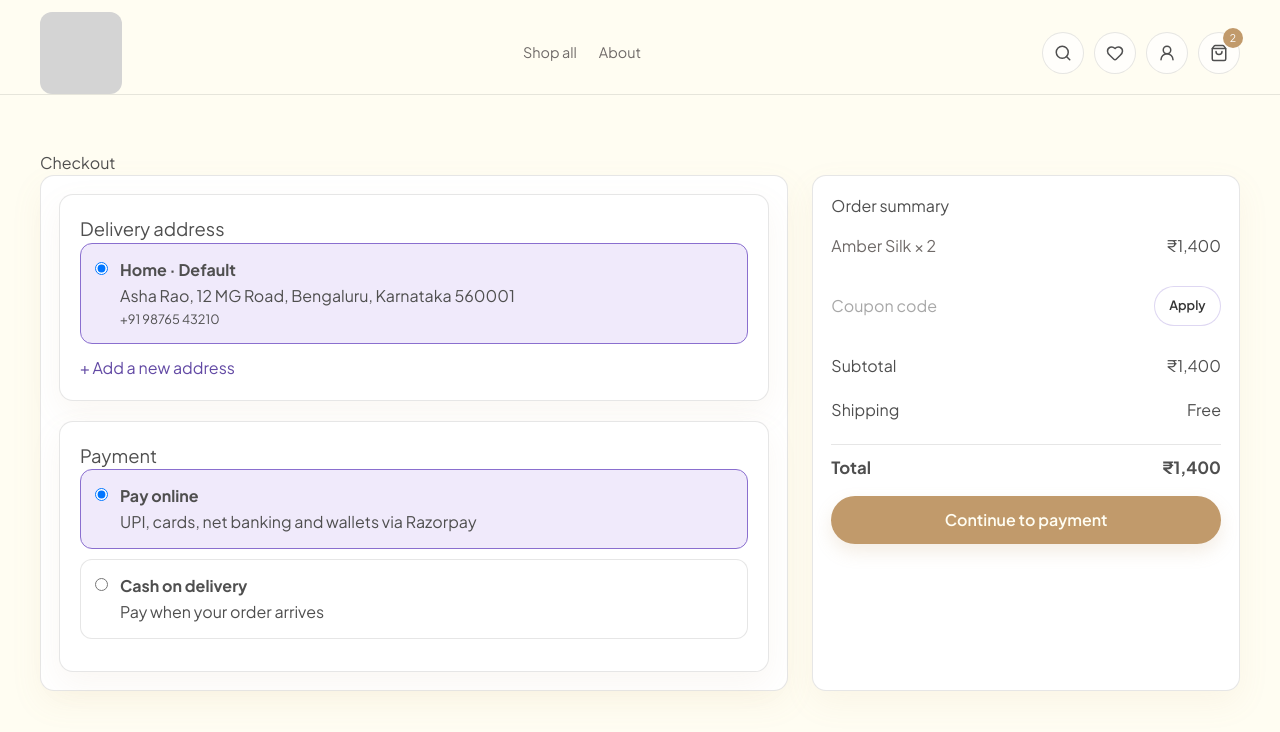
Test: checkout › applies a coupon through the server quote and shows coupon errors
Type "old" into the field labelled "Coupon code". click: (989, 306)
box: [831,286,1146,326]
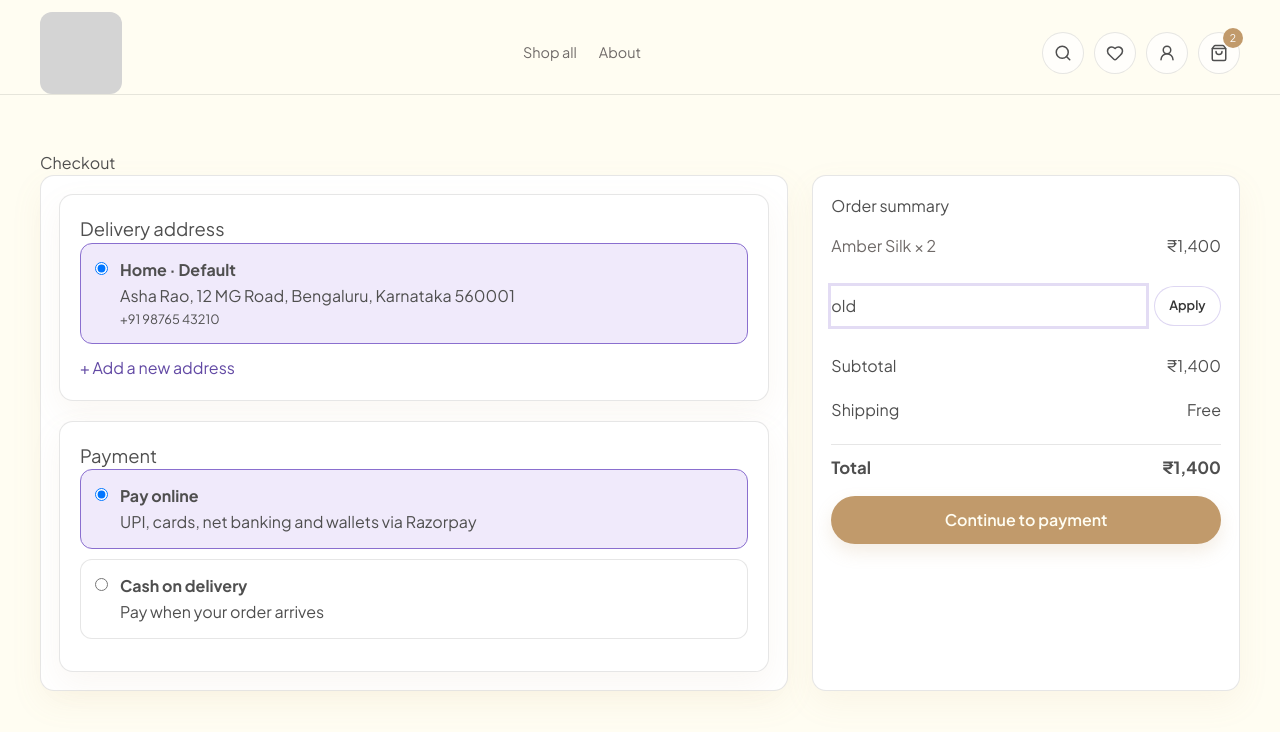
Click the button "Apply". click: (1187, 306)
box: [1154,286,1221,326]
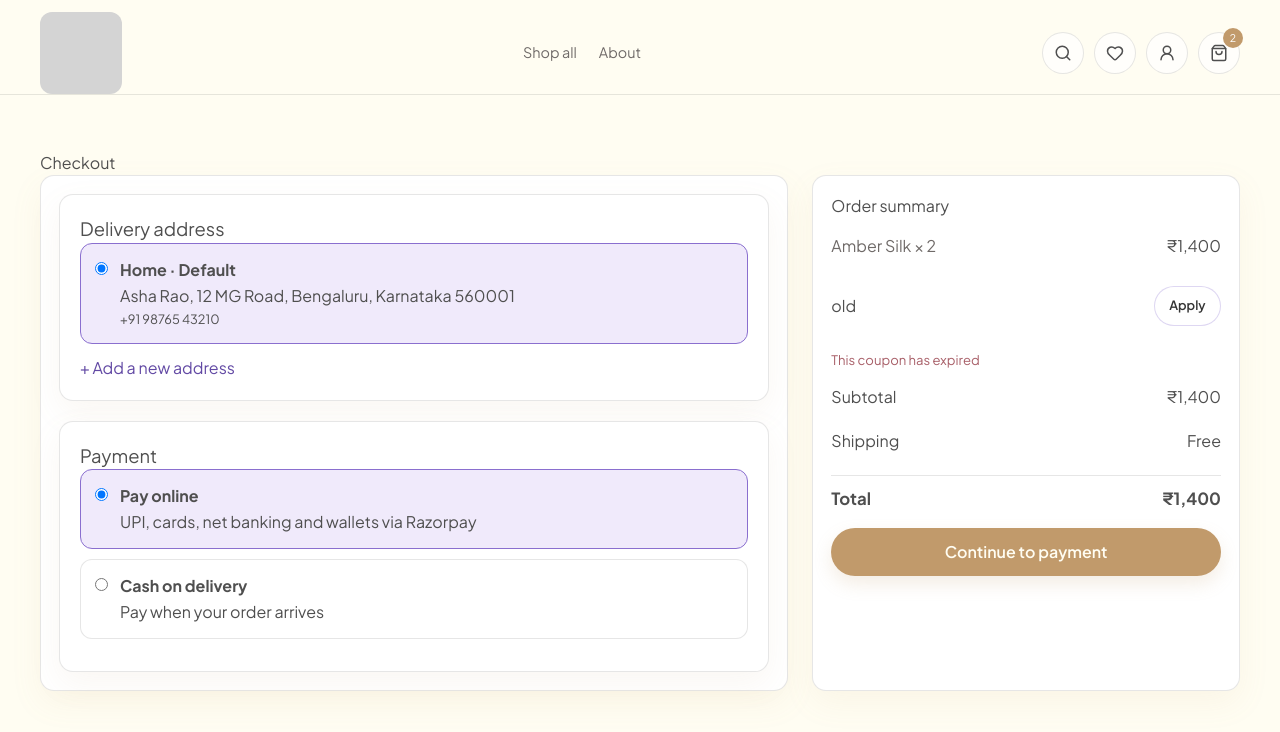
Now the text "This coupon has expired" is shown, box [831,351,980,368]
Replace the text in the field named "Coupon code" with "glow10". click: (989, 306)
box: [831,286,1146,326]
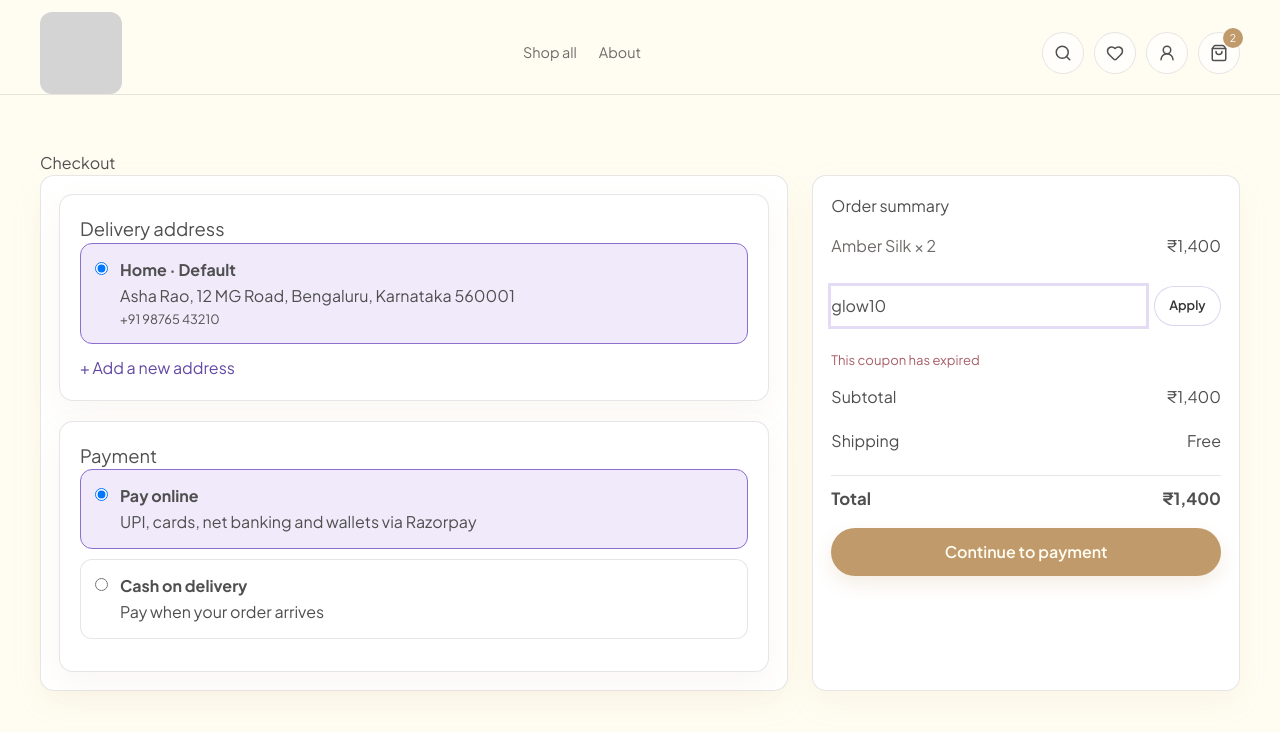
Click the button "Apply". click: (1187, 306)
box: [1154,286,1221,326]
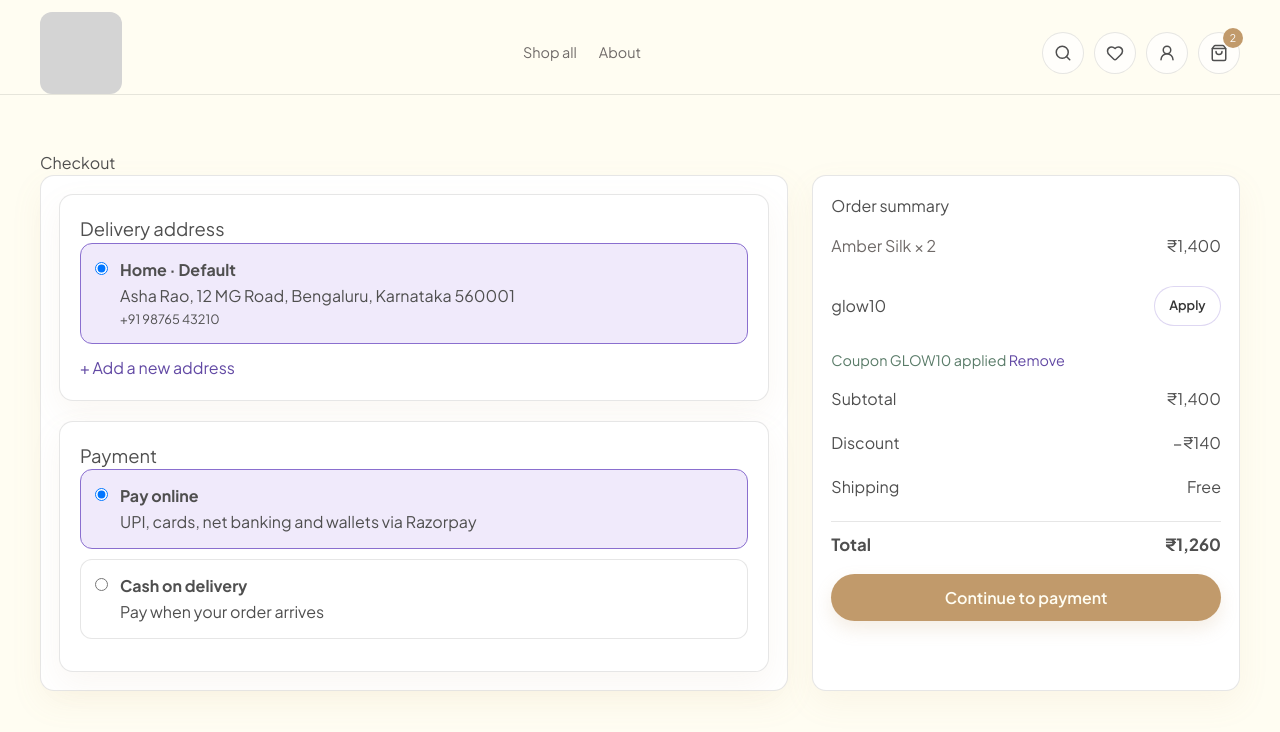
Now the text "₹1,260" is shown, box [1165,532,1221,558]
